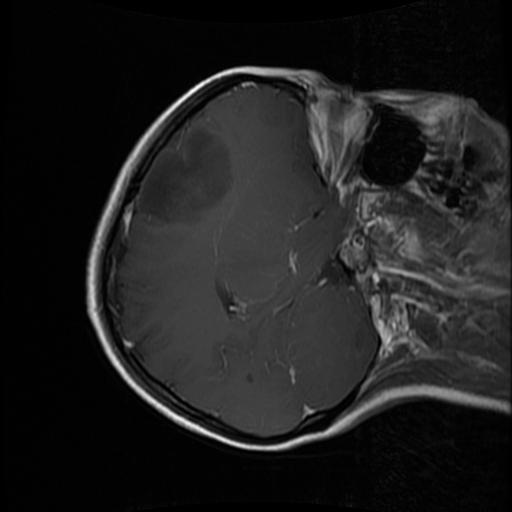glioma: (139, 126, 228, 226)
